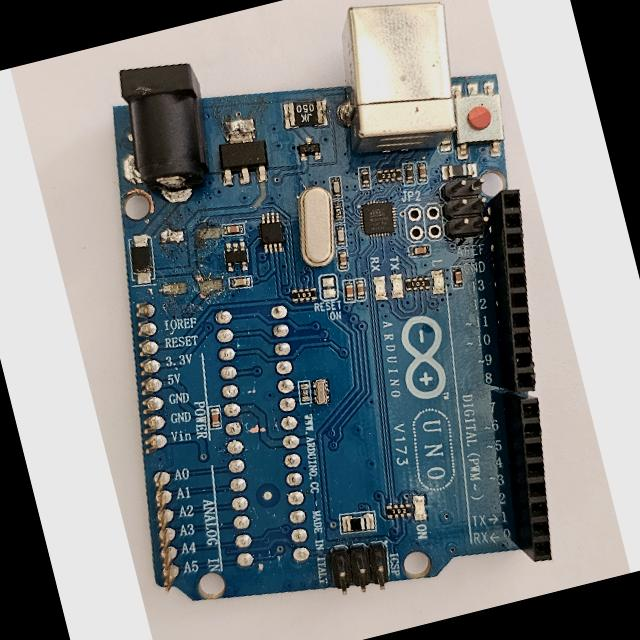missing_analog_pins: (128, 297, 183, 600)
missing_atmega: (212, 295, 312, 575)
missing_capacitors: (152, 219, 228, 297)
